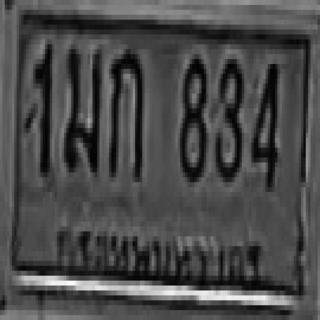A01: (107, 47, 142, 175)
A33: (62, 42, 100, 170)
N01: (33, 39, 50, 172)
N03: (213, 54, 242, 177)
N04: (249, 59, 277, 187)
N08: (178, 54, 206, 177)
P04: (49, 214, 271, 289)
